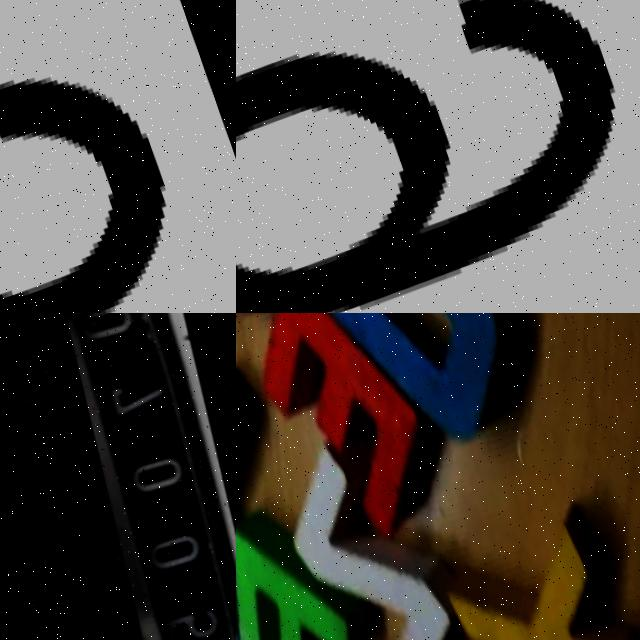0: (119, 448, 186, 507), (138, 524, 204, 581), (69, 313, 137, 352)
3: (0, 34, 201, 313)
5: (155, 598, 225, 640)
7: (98, 368, 168, 428)
9: (236, 0, 640, 313)
E: (236, 313, 467, 571)
F: (236, 487, 374, 640)
J: (295, 313, 574, 515)
X: (428, 494, 640, 640)
Z: (242, 381, 508, 640)
